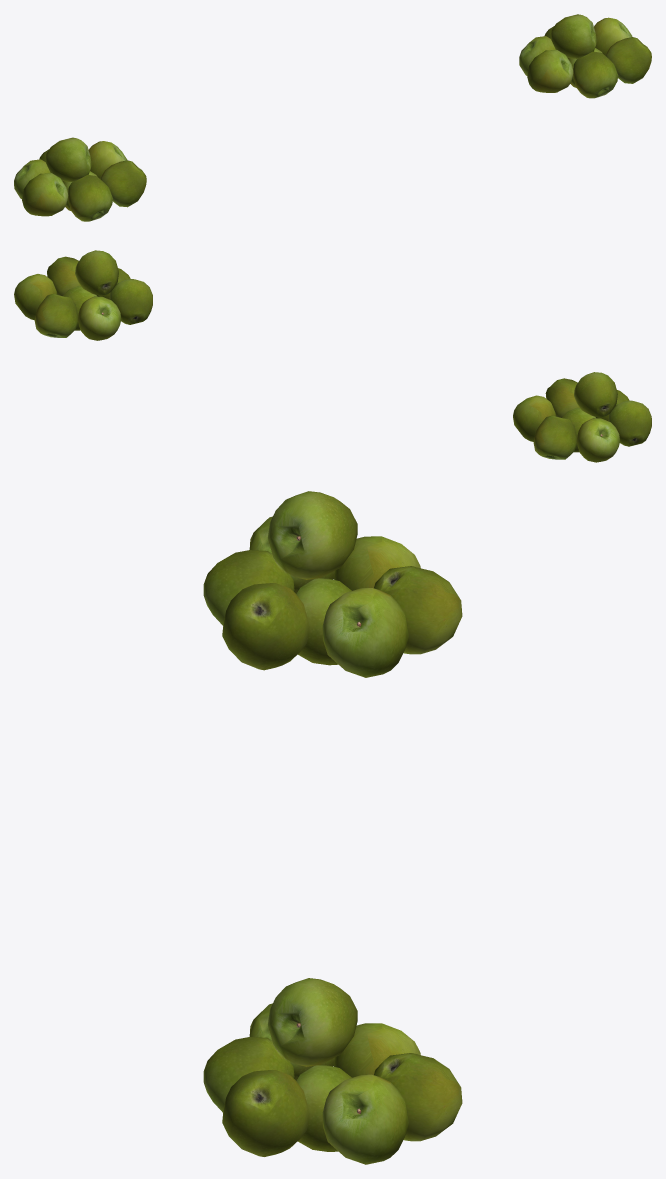
Rendered from MD-青苹果.fbx.
3 views of the same model, one above another, from view 1: azimuth 30°, elevation 25°; view 2: azimuth 150°, elevation 25°; view 3: azimuth 270°, elevation 25° (orthographic). The views are drawn at different scales.
Parts seen in each view (by area): view 1: MD-青苹果; view 2: MD-青苹果; view 3: MD-青苹果.
Part boxes in pixels (box(x1,y1,x2,y2)): MD-青苹果: box(14, 14, 651, 221); MD-青苹果: box(14, 250, 651, 462); MD-青苹果: box(203, 491, 462, 1164).
Size of the model in its own units: 0.63 by 0.1149 by 0.0741.
